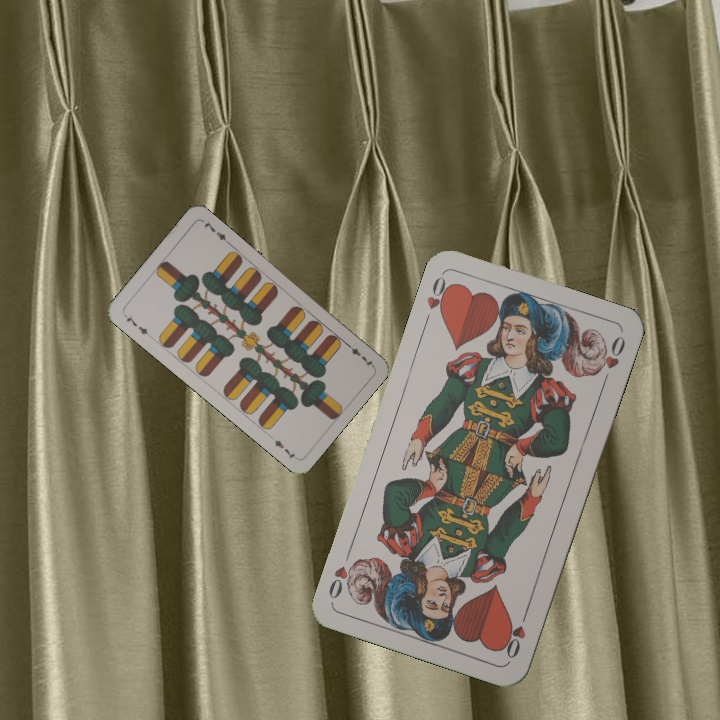E7: (341, 339, 376, 370), (120, 310, 154, 340)
HO: (420, 270, 455, 328), (499, 605, 531, 661)
